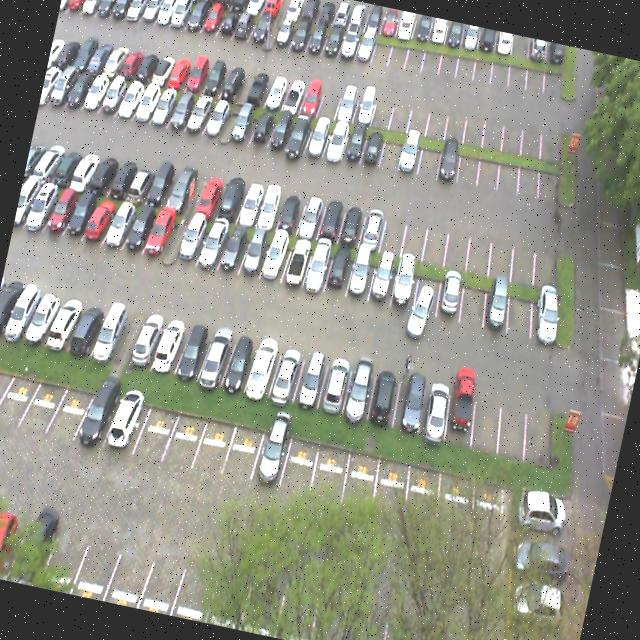empty: (13, 370, 67, 440), (44, 374, 95, 446), (517, 392, 564, 460), (160, 408, 208, 474), (467, 386, 511, 456), (192, 412, 238, 477), (132, 400, 180, 462), (494, 388, 536, 456), (222, 420, 264, 486), (0, 366, 38, 434), (486, 224, 523, 281), (442, 213, 478, 270), (532, 236, 568, 288), (458, 272, 491, 328), (510, 230, 544, 284), (422, 212, 454, 268), (503, 284, 537, 336), (402, 205, 434, 259), (466, 221, 498, 274), (413, 265, 445, 318), (534, 153, 568, 202), (377, 205, 410, 255), (498, 147, 527, 195), (378, 127, 407, 173), (516, 154, 546, 196), (478, 148, 507, 191), (418, 136, 445, 178), (458, 144, 484, 184), (0, 361, 10, 425)
occupied: (71, 382, 121, 450), (170, 319, 217, 385), (102, 390, 150, 452), (248, 427, 292, 494), (443, 379, 484, 447), (191, 213, 233, 277), (0, 279, 42, 343), (79, 188, 122, 250), (391, 372, 432, 436), (417, 376, 458, 439), (19, 288, 62, 348), (44, 293, 86, 354), (100, 188, 140, 252), (218, 333, 259, 395), (266, 342, 304, 408), (316, 351, 354, 416), (118, 199, 158, 260), (196, 326, 236, 387), (235, 220, 273, 284), (68, 297, 108, 357), (526, 282, 566, 340), (89, 306, 129, 364), (141, 202, 178, 264), (342, 356, 379, 418), (62, 184, 100, 244), (212, 220, 250, 280), (150, 314, 188, 374), (368, 366, 404, 428), (243, 338, 280, 398), (478, 274, 516, 332), (173, 210, 207, 273), (292, 348, 328, 407), (126, 313, 164, 368), (280, 235, 314, 292), (104, 152, 142, 202), (85, 150, 124, 198), (182, 88, 217, 140), (433, 268, 468, 320), (122, 157, 158, 207), (258, 231, 290, 287), (300, 242, 333, 296), (147, 81, 181, 133), (345, 250, 377, 304), (390, 257, 422, 311), (130, 77, 164, 126), (274, 186, 308, 235), (144, 164, 180, 210), (166, 86, 199, 136), (167, 168, 201, 216), (368, 254, 398, 308), (200, 94, 233, 142), (336, 197, 367, 248), (326, 245, 355, 298), (229, 98, 261, 146), (212, 177, 244, 224), (296, 191, 328, 238), (236, 179, 268, 225), (254, 184, 286, 230), (194, 175, 226, 220), (302, 115, 332, 162), (315, 196, 345, 242), (268, 108, 296, 156), (286, 110, 314, 158), (358, 205, 387, 251), (250, 104, 278, 150), (339, 122, 366, 166), (400, 132, 426, 176), (438, 140, 465, 182), (322, 120, 348, 161), (361, 126, 386, 166)
